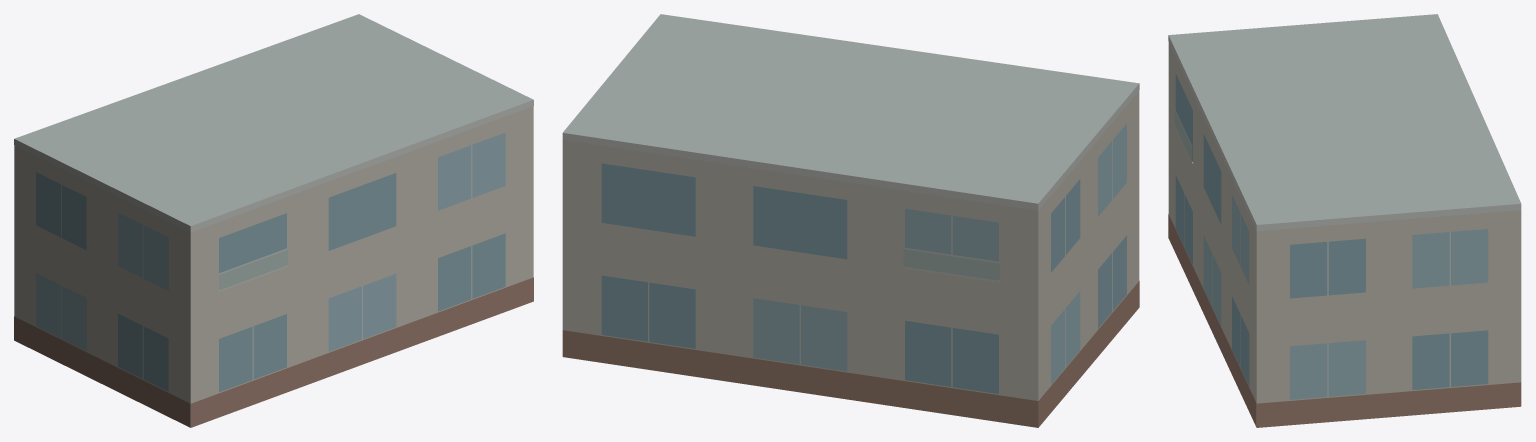
The model's file is survey-upis-32619553.glb.
The picture shows the model from 3 angles, left to right: view 1: azimuth 30°, elevation 25°; view 2: azimuth 150°, elevation 25°; view 3: azimuth 270°, elevation 25°; orthographic projection. The views are drawn at different scales.
Visible parts, largest first — view 1: survey-upis-32619553.tmp; view 2: survey-upis-32619553.tmp; view 3: survey-upis-32619553.tmp.
Boxes of the visible parts, x1,y1,x2,y2 form: survey-upis-32619553.tmp: (14,14,533,427); survey-upis-32619553.tmp: (562,14,1139,427); survey-upis-32619553.tmp: (1168,14,1521,427).
Bounding box in the file's own units: 17.63 × 7.9 × 12.46.
